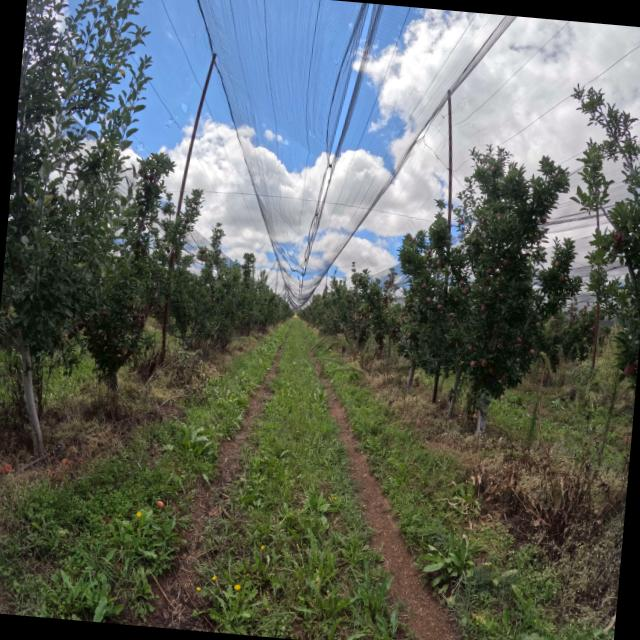-FireBlight-: (458, 360, 464, 362)
